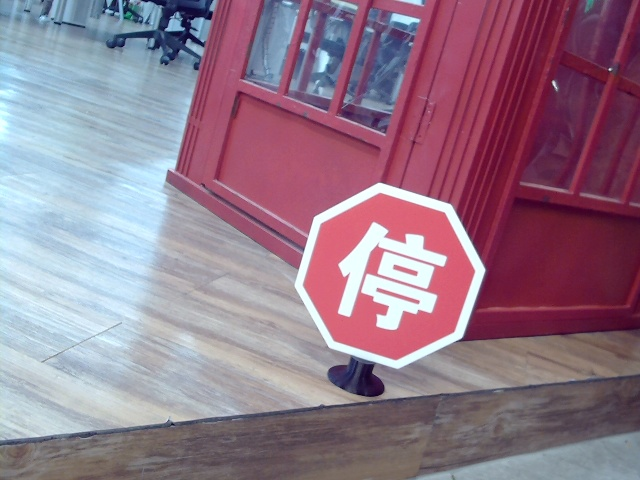stop: (335, 219, 438, 331)
